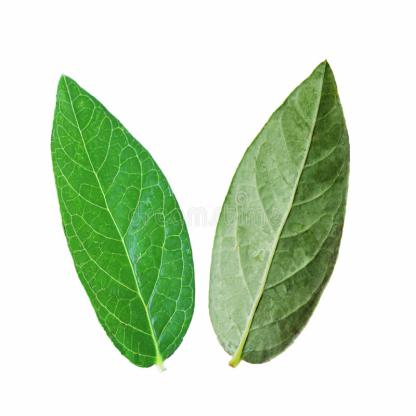blueberry leaf: (204, 55, 358, 383), (42, 67, 201, 384)
